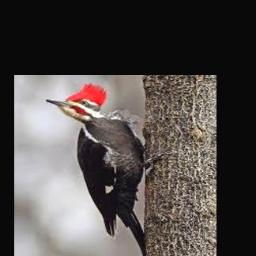Woodpecker: (47, 84, 171, 256)
